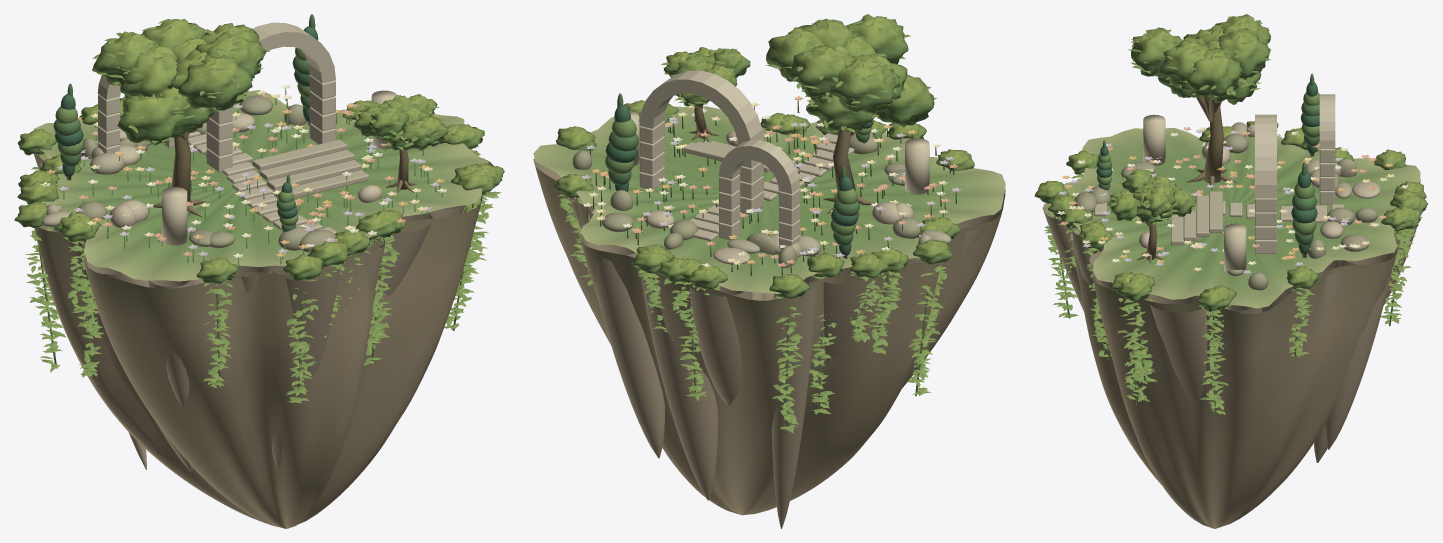
Rendered from ruins.glb.
3 views of the same model, side by side, from view 1: azimuth 30°, elevation 25°; view 2: azimuth 150°, elevation 25°; view 3: azimuth 270°, elevation 25° (orthographic). The views are drawn at different scales.
Parts seen in each view (by area): view 1: ruins_fixed_Warm limestone, ruins_fixed_Garden foliage, ruins_fixed_Flower petals, ruins_fixed_Oiled cedar; view 2: ruins_fixed_Warm limestone, ruins_fixed_Garden foliage, ruins_fixed_Flower petals, ruins_fixed_Oiled cedar; view 3: ruins_fixed_Warm limestone, ruins_fixed_Garden foliage, ruins_fixed_Flower petals, ruins_fixed_Oiled cedar.
Boxes of the visible parts, <box> form: ruins_fixed_Warm limestone: <box>33,22,493,528</box>; ruins_fixed_Garden foliage: <box>14,14,504,403</box>; ruins_fixed_Flower petals: <box>40,84,446,266</box>; ruins_fixed_Oiled cedar: <box>66,122,416,217</box>; ruins_fixed_Warm limestone: <box>533,70,1005,528</box>; ruins_fixed_Garden foliage: <box>533,14,1005,433</box>; ruins_fixed_Flower petals: <box>582,96,961,275</box>; ruins_fixed_Oiled cedar: <box>689,106,875,258</box>; ruins_fixed_Warm limestone: <box>1042,94,1420,528</box>; ruins_fixed_Garden foliage: <box>1034,14,1428,414</box>; ruins_fixed_Flower petals: <box>1056,127,1408,278</box>; ruins_fixed_Oiled cedar: <box>1137,95,1314,263</box>.
Size of the model in its own units: 11.52 by 13 by 10.25.
